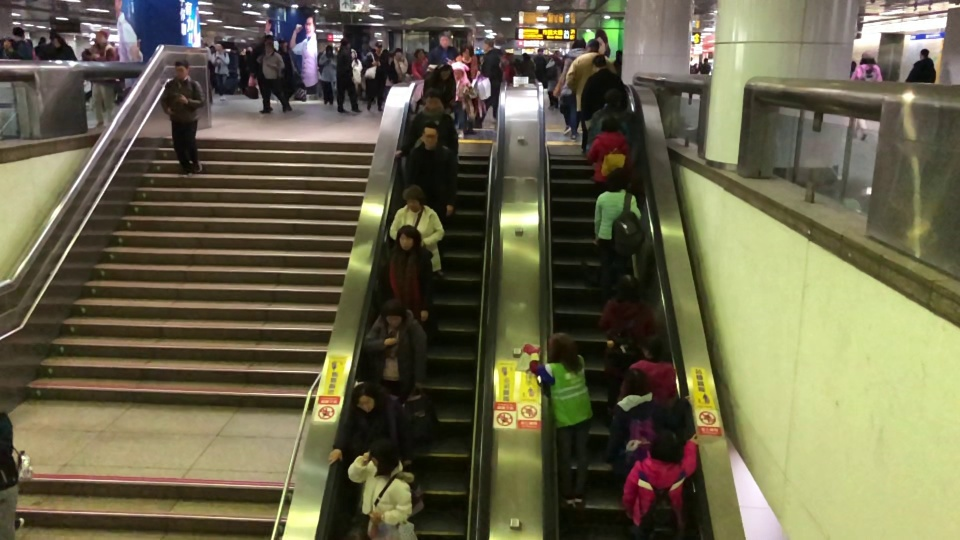person_head: (350, 381, 380, 412), (650, 430, 681, 460), (370, 439, 398, 466), (622, 367, 649, 395), (380, 299, 406, 327), (395, 224, 421, 251), (549, 332, 576, 358), (401, 182, 424, 211), (605, 166, 630, 191), (419, 120, 441, 148), (616, 274, 639, 297), (602, 89, 624, 111), (1, 413, 13, 453), (641, 336, 662, 358), (422, 88, 442, 110), (174, 57, 191, 79), (600, 116, 620, 131), (858, 49, 877, 63), (591, 53, 606, 68), (92, 29, 108, 43), (438, 64, 452, 79), (586, 37, 600, 51), (483, 37, 495, 52), (438, 32, 451, 45), (571, 36, 585, 48), (12, 25, 24, 38), (53, 35, 65, 48), (460, 44, 471, 58), (918, 45, 929, 56), (264, 39, 274, 51), (374, 41, 384, 53), (416, 47, 426, 57), (325, 42, 333, 54), (339, 37, 348, 47), (393, 48, 403, 57), (215, 42, 222, 51), (537, 47, 544, 54), (703, 57, 710, 62)
person_vbox: (520, 331, 593, 513), (607, 367, 694, 472), (621, 430, 703, 540), (599, 272, 656, 423), (328, 381, 413, 469), (364, 299, 427, 400), (564, 35, 617, 155), (377, 224, 436, 324), (160, 57, 206, 179), (348, 438, 412, 524), (593, 166, 641, 276), (404, 122, 458, 216), (387, 182, 444, 271), (396, 88, 460, 157), (580, 53, 630, 128), (586, 87, 639, 155), (586, 116, 633, 188), (627, 336, 677, 402), (85, 30, 118, 121), (850, 49, 882, 142), (0, 412, 23, 540), (257, 38, 292, 115), (560, 35, 585, 131), (458, 44, 483, 133), (336, 36, 362, 114), (363, 42, 387, 110), (421, 64, 457, 101), (903, 45, 938, 83), (318, 42, 338, 105), (211, 41, 230, 101), (426, 31, 456, 63), (5, 26, 31, 58), (481, 37, 500, 77), (387, 47, 408, 82), (535, 47, 549, 88), (412, 46, 427, 79), (53, 36, 74, 59), (699, 55, 710, 73)
